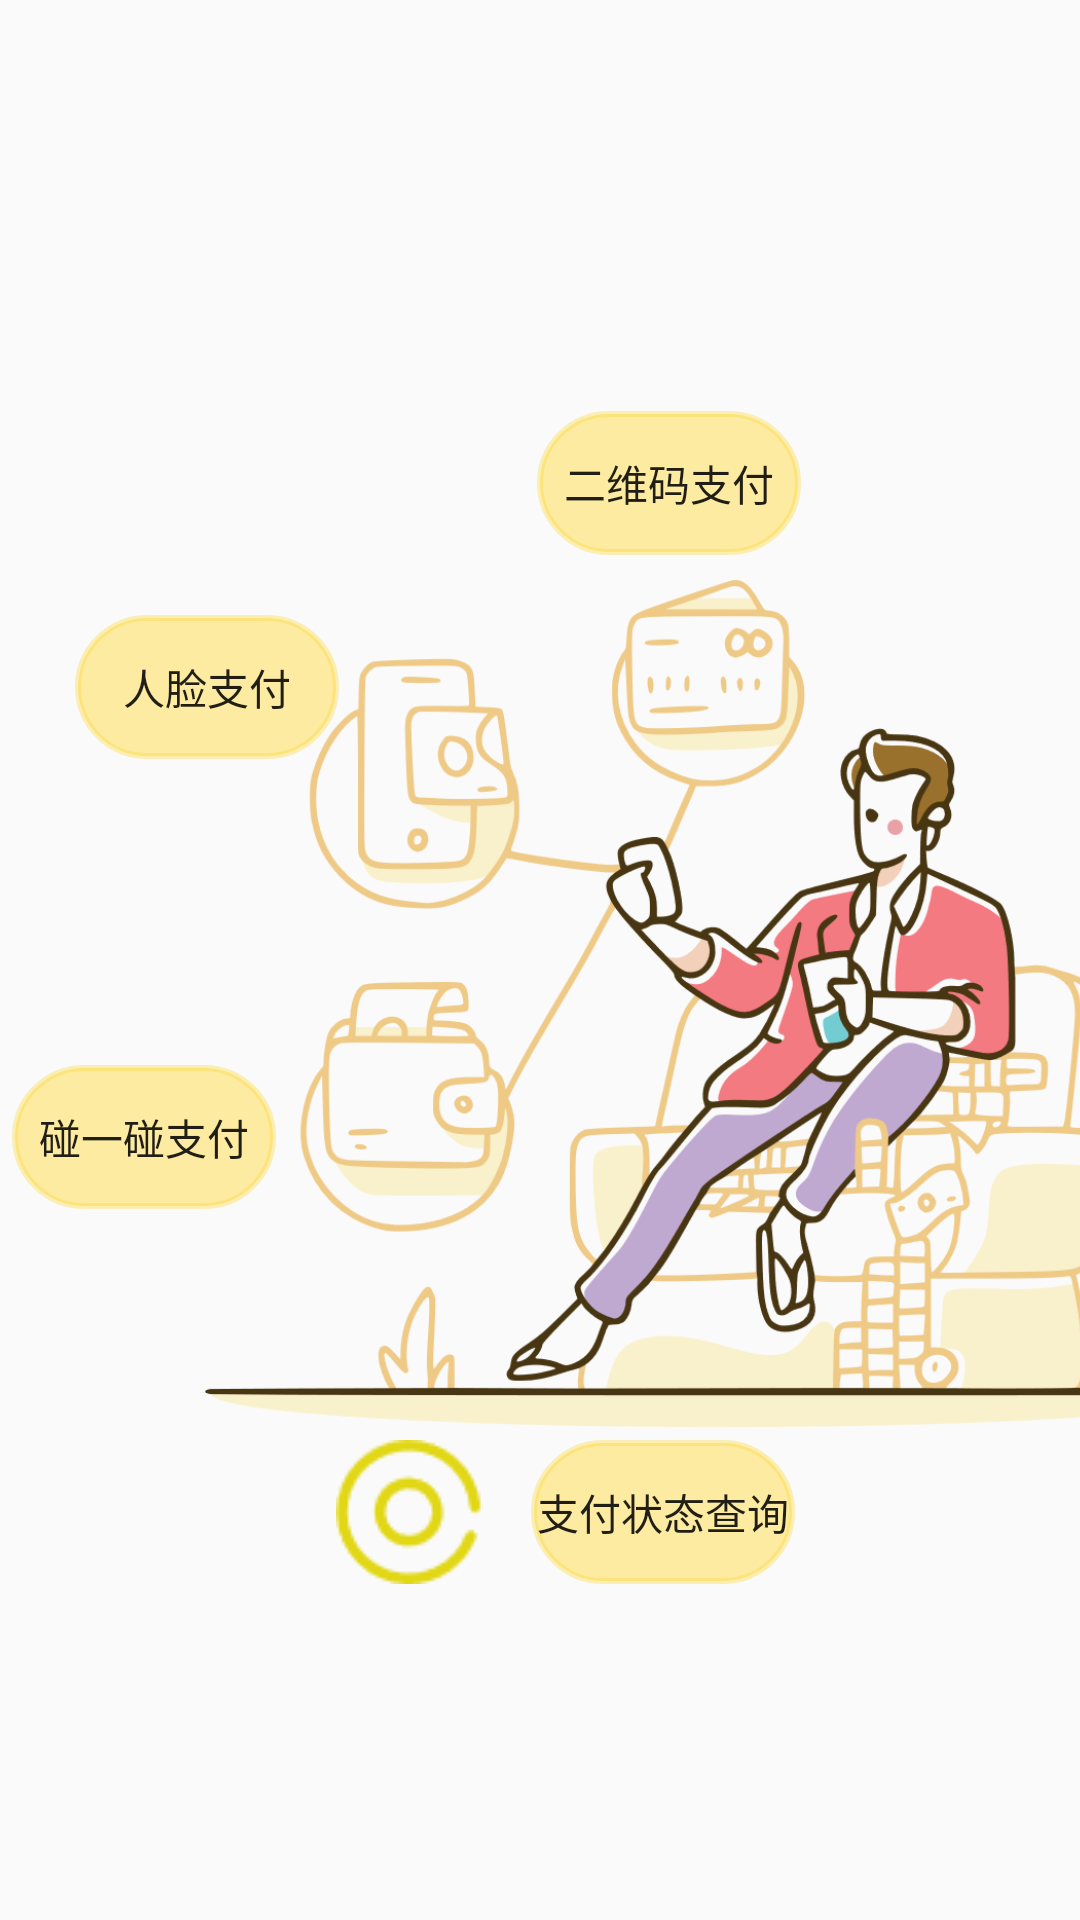

Icons on this 1080 × 1920 Android screen, each with its box as (x1, y1, x2, y2):
statu: (336, 1440, 481, 1584)
